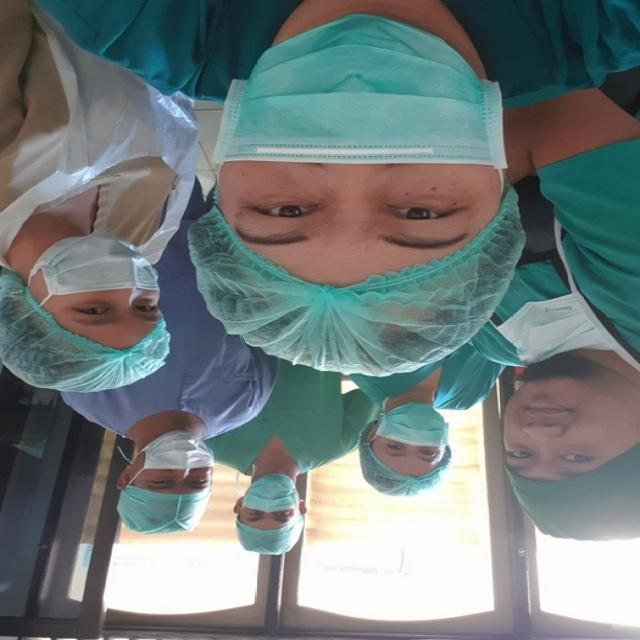mask: (204, 12, 511, 170), (27, 228, 162, 300), (367, 399, 451, 448), (132, 428, 216, 476), (239, 471, 300, 515)
